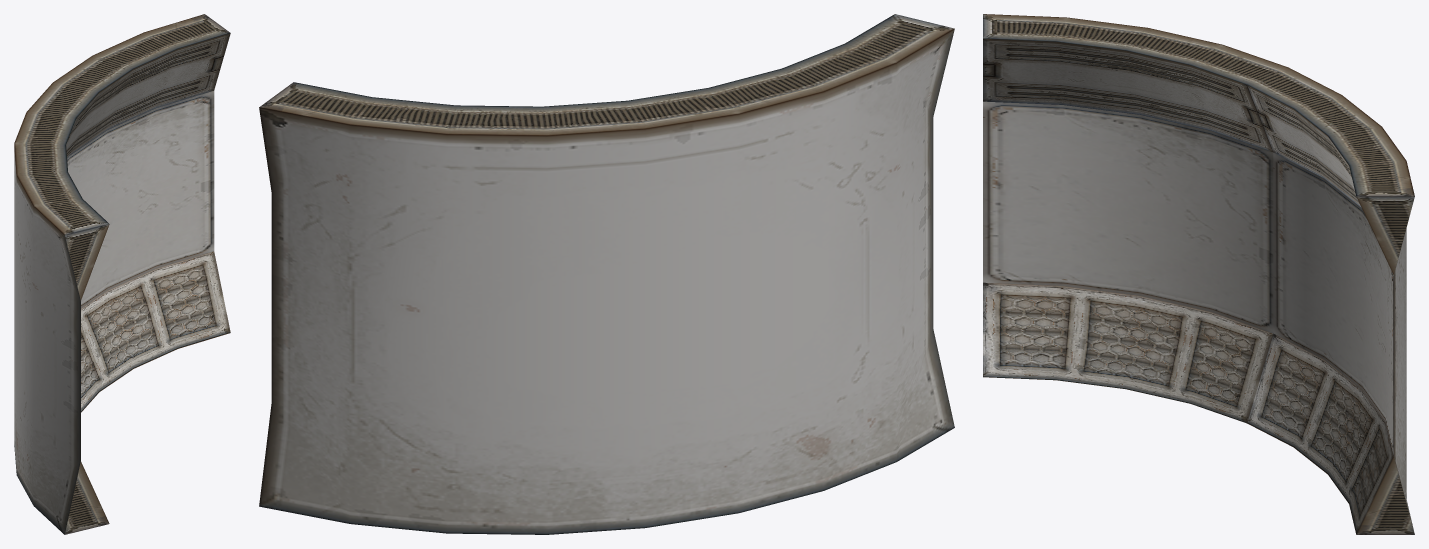
The model's file is scifi_wall_curve2_1.FBX.
3 views of the same model, side by side, from view 1: azimuth 30°, elevation 25°; view 2: azimuth 150°, elevation 25°; view 3: azimuth 270°, elevation 25° (orthographic). The views are drawn at different scales.
Parts seen in each view (by area): view 1: Plane118; view 2: Plane118; view 3: Plane118.
Boxes of the visible parts, x1,y1,x2,y2 form: Plane118: (14,14,230,534); Plane118: (259,14,954,534); Plane118: (983,14,1414,534).
Size of the model in its own units: 294 by 254 by 294.
